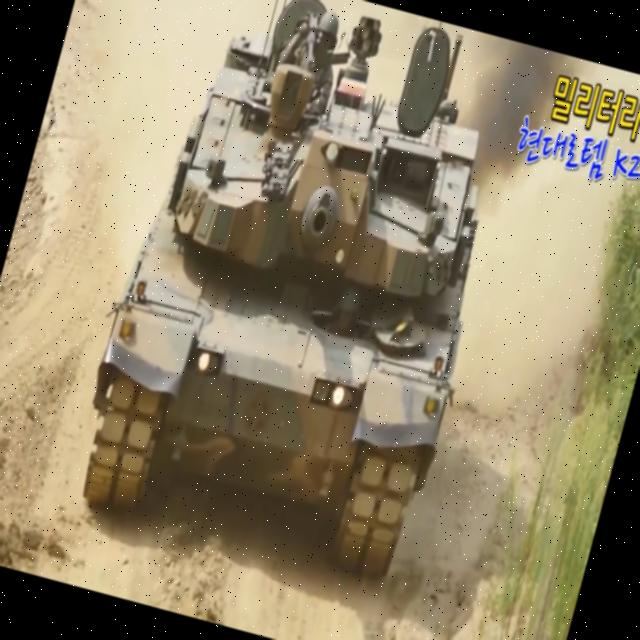korea tank: (63, 0, 545, 587)
